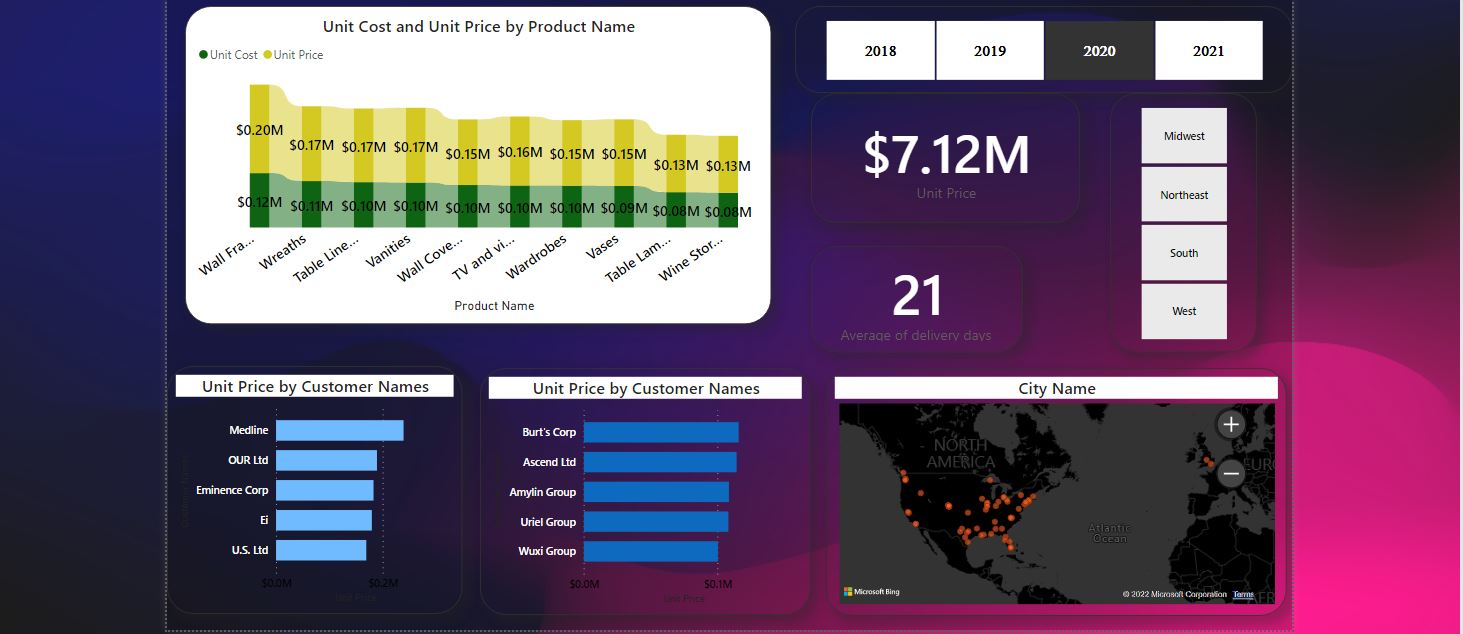

The dashboard page shown, as its layout file describes it:
{"tool":"powerbi","page":{"name":"Sales Insight","canvas":[1280,720],"ordinal":0},"visuals":[{"type":"card","fields":{"Values":["Sum(Sales.Unit Price)"]},"box":[732.9,109.2,306.1,148],"z":0},{"type":"slicer","title":"Year","fields":{"Values":["Sales.Year"]},"box":[713.9,10.1,566.1,99.1],"z":1000},{"type":"barChart","fields":{"Category":["Customers.Customer Names"],"Y":["Sum(Sales.Unit Price)"]},"box":[0,419.9,336,282.2],"z":2000},{"type":"map","fields":{"Category":["Locations.City Name"]},"box":[749.2,421.6,524.1,282.2],"z":3000},{"type":"barChart","fields":{"Category":["Customers.Customer Names"],"Y":["Sum(Sales.Unit Price)"]},"box":[356.1,421.6,376.3,280.5],"z":4000},{"type":"card","fields":{"Values":["Avg(Sales.delivery days )"]},"box":[732.9,283.1,241.4,120.7],"z":5000},{"type":"slicer","title":"Region","fields":{"Values":["Sales_Team.Region"]},"box":[1072.1,109.2,166.7,294.6],"z":6000},{"type":"ribbonChart","fields":{"Category":["Products.Product Name"],"Y":["Sum(Sales.Unit Cost)","Sum(Sales.Unit Price)"]},"box":[20.1,10.1,666.8,362.2],"z":7000}]}

Visuals, with their boxes on the page's 1280x720 design canvas (x1, y1, x2, y2). These are canvas units, not pixel positions in the 1463x634 screenshot, which may show the page scaled, cropped or inside an application window:
card - Sum(Sales.Unit Price): box=[733, 109, 1039, 257]
"Year" slicer: box=[714, 10, 1280, 109]
barChart - Customers.Customer Names x Sum(Sales.Unit Price): box=[0, 420, 336, 702]
map - Locations.City Name: box=[749, 422, 1273, 704]
barChart - Customers.Customer Names x Sum(Sales.Unit Price): box=[356, 422, 732, 702]
card - Avg(Sales.delivery days ): box=[733, 283, 974, 404]
"Region" slicer: box=[1072, 109, 1239, 404]
ribbonChart - Products.Product Name x Sum(Sales.Unit Cost): box=[20, 10, 687, 372]
